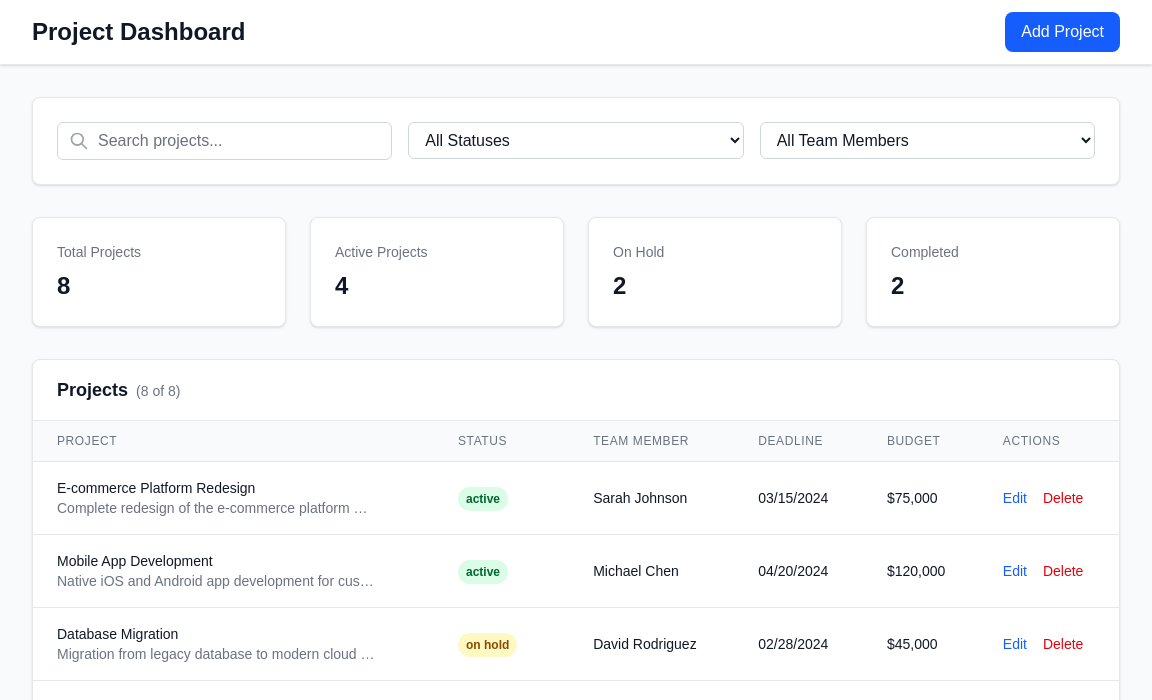
it: Dashboard Component › Form Validation › should validate past deadline dates
# Open add project modal
Step 1. Click the button "Add Project" → {"x": 1063, "y": 32}, box left=1005, top=12, right=1120, bottom=52
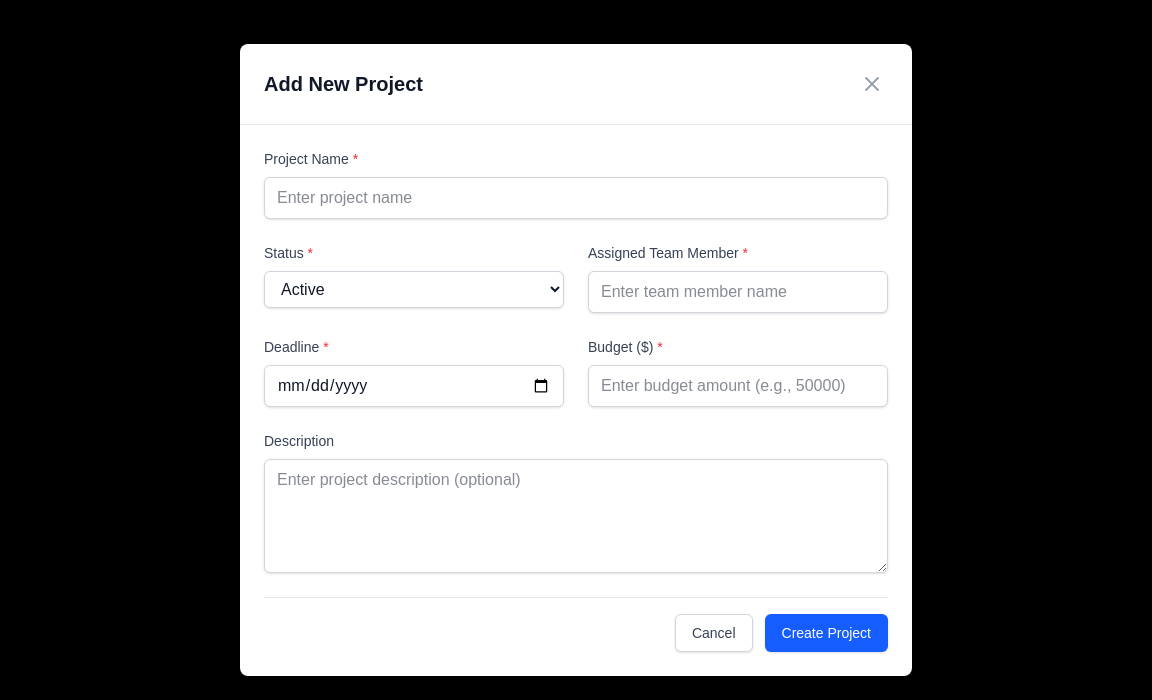
Expected: the heading "Add New Project" is shown, left=264, top=70, right=423, bottom=98
# Fill required fields with past deadline
Step 2. Type "Test Project" into the field labelled "Project Name *" → {"x": 576, "y": 198}, box left=264, top=177, right=888, bottom=219
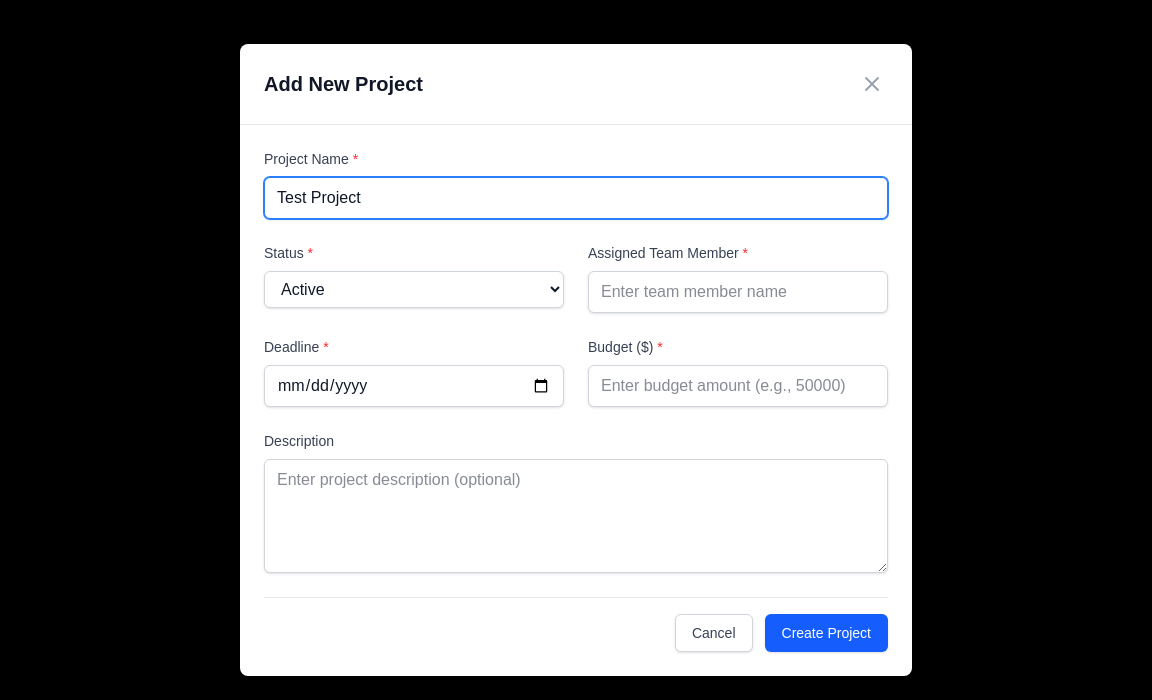
Step 3. Type "John Doe" into the field labelled "Assigned Team Member *" → {"x": 738, "y": 292}, box left=588, top=271, right=888, bottom=313
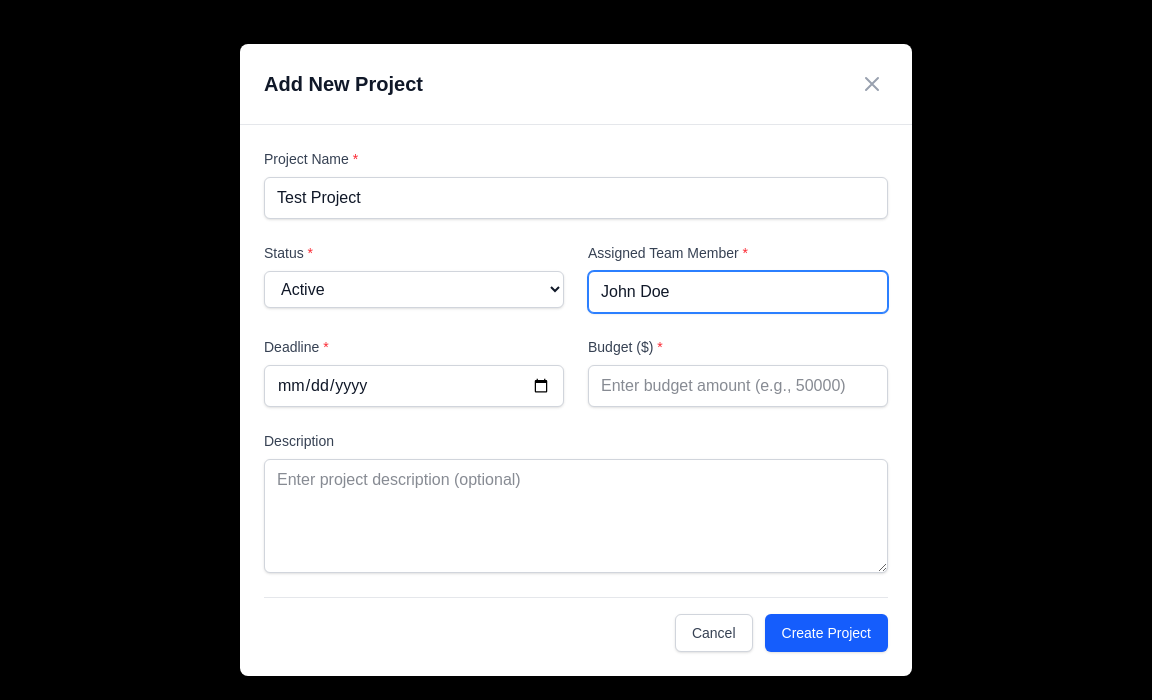
Step 4. Type "2020-01-01" into the date field labelled "Deadline *" → {"x": 414, "y": 386}, box left=264, top=365, right=564, bottom=407
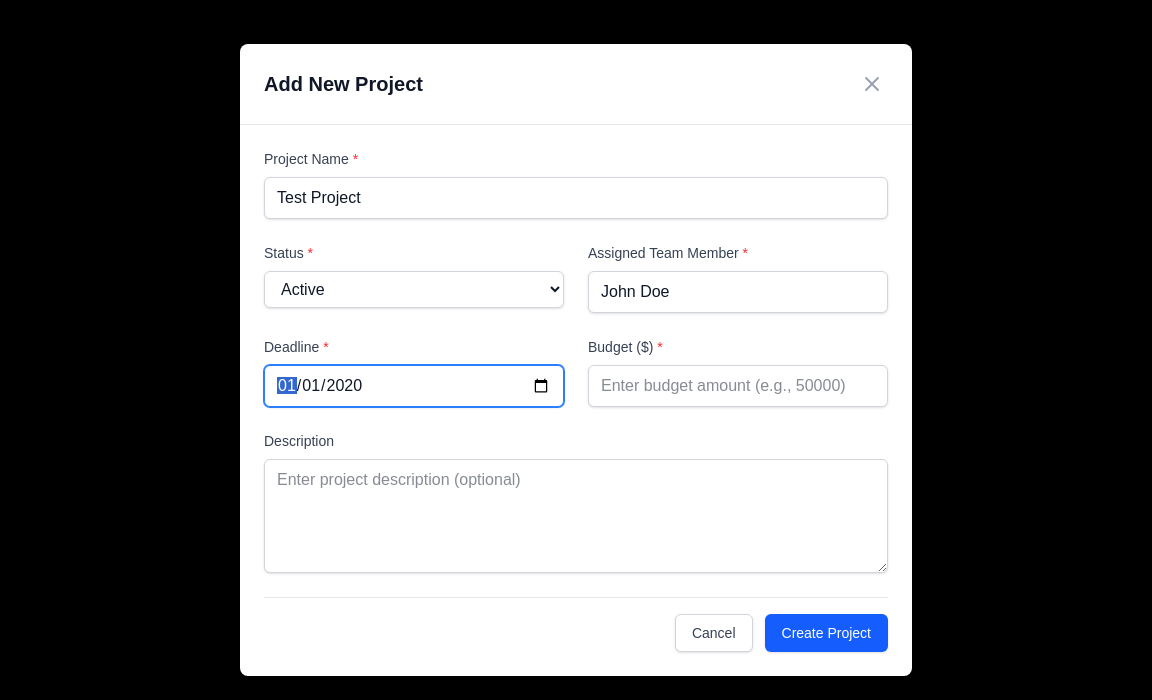
Step 5. Type "1000" into the field labelled "Budget ($) *" → {"x": 738, "y": 386}, box left=588, top=365, right=888, bottom=407
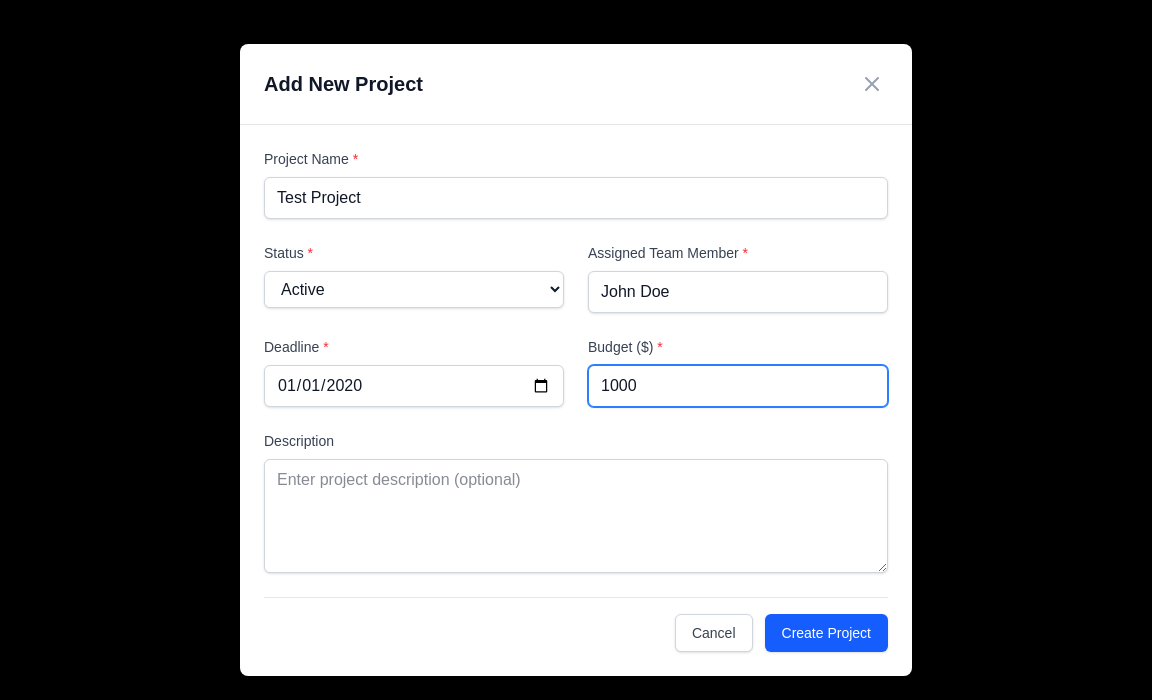
# Try to submit
Step 6. Click the button "Create Project" → {"x": 826, "y": 633}, box left=764, top=614, right=888, bottom=652
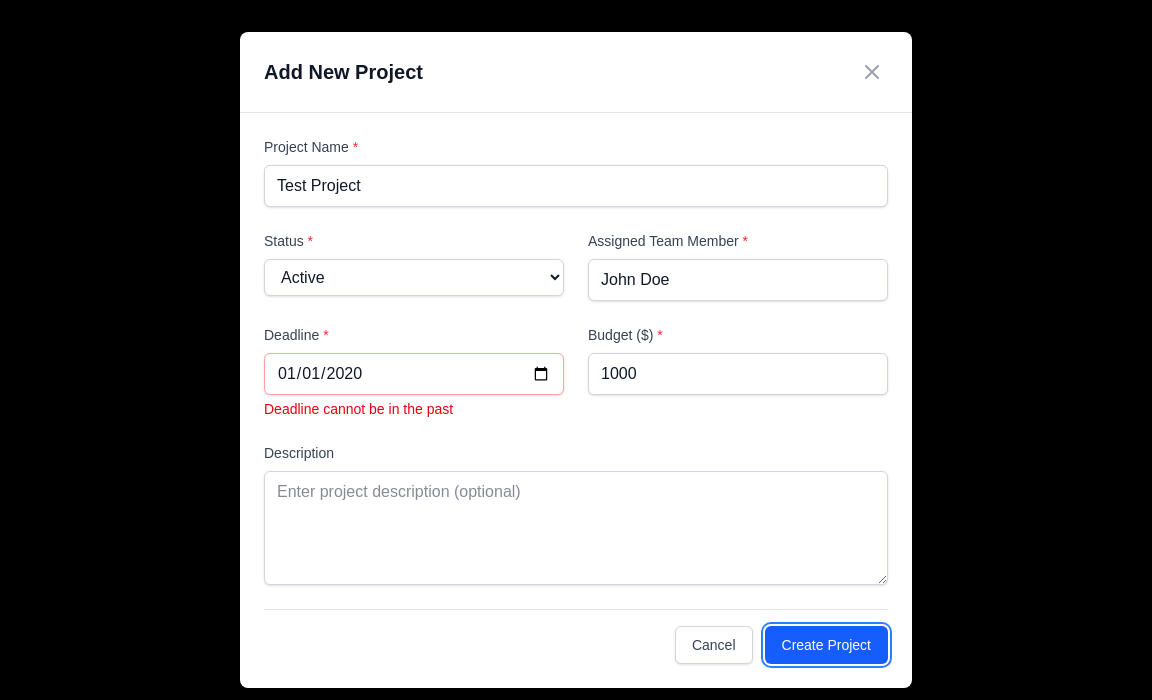
Expected: the text "Deadline cannot be in the past" is shown, left=264, top=401, right=453, bottom=417
